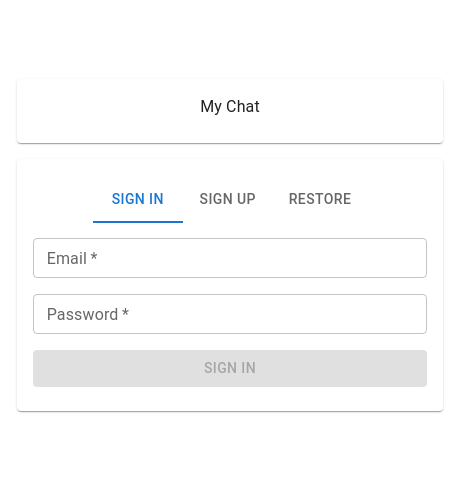
Test: SignUpForm › Invalid name
Click the tab with test id "tab_btn-2".
click(228, 199)  # box [183,175,273,223]
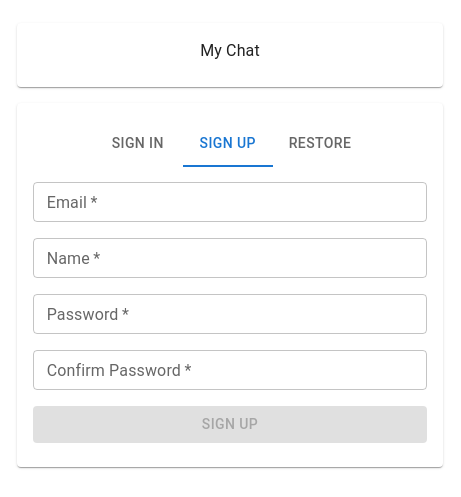
Expected: the form with test id "sign-up-form" is shown, [33,182,427,443]
Type "a" into the field with test id "name-input".
click(230, 258); type("a")  # box [33,238,427,278]
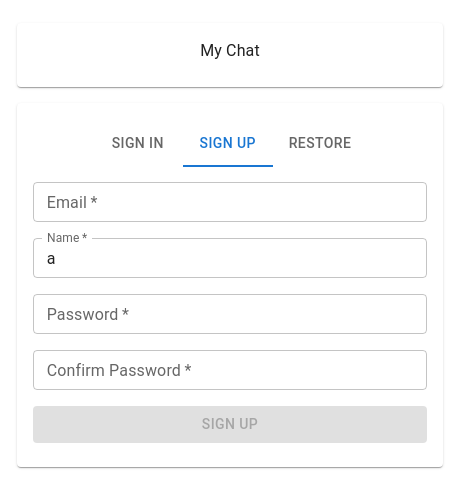
Leave the field with test id "name-input", box [33,238,427,278]
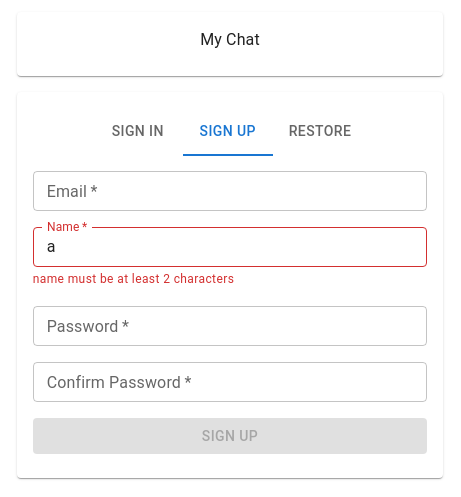
Expected: the button with test id "submit-btn" is disabled, [33,418,427,454]
Expected: the text with test id "name-validation-message" is shown, [33,272,234,286]
